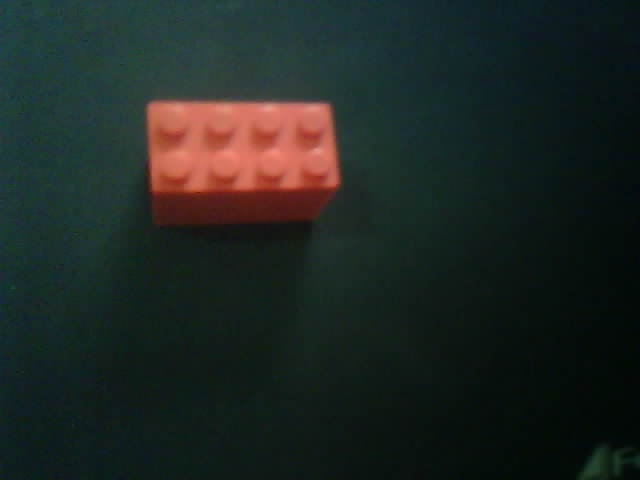lego: (144, 96, 344, 228)
